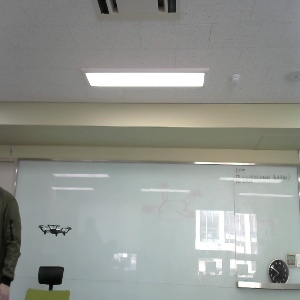Drone: (41, 218, 74, 237)
